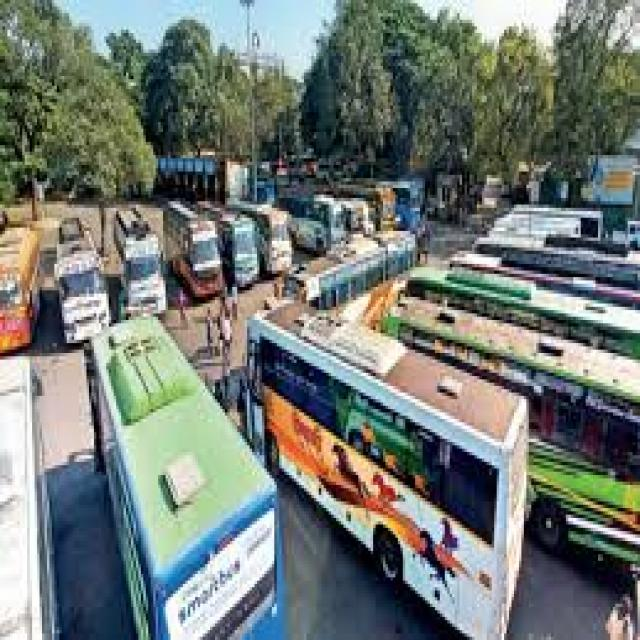BUS: (274, 267, 519, 640), (64, 307, 272, 640)
